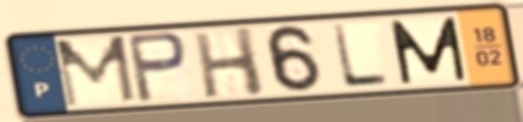6: (263, 22, 327, 96)
H: (189, 24, 268, 100)
L: (329, 22, 393, 90)
M: (51, 32, 140, 110), (386, 14, 470, 87)
P: (123, 30, 191, 105)
